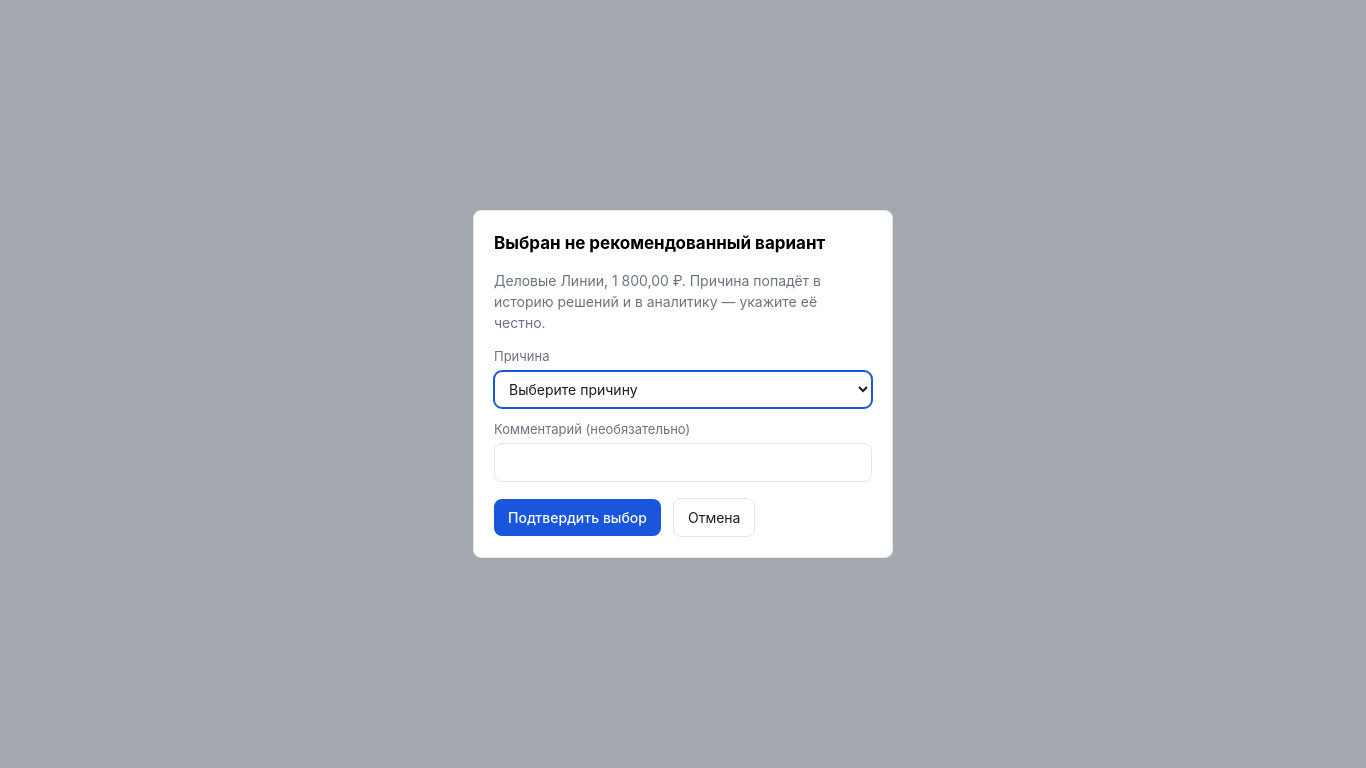
Test case: OverrideDialog › не пропускает подтверждение без причины
This screenshot has width=1366, height=768.
Click the button "Подтвердить выбор": (578, 518) left=494, top=499, right=661, bottom=536
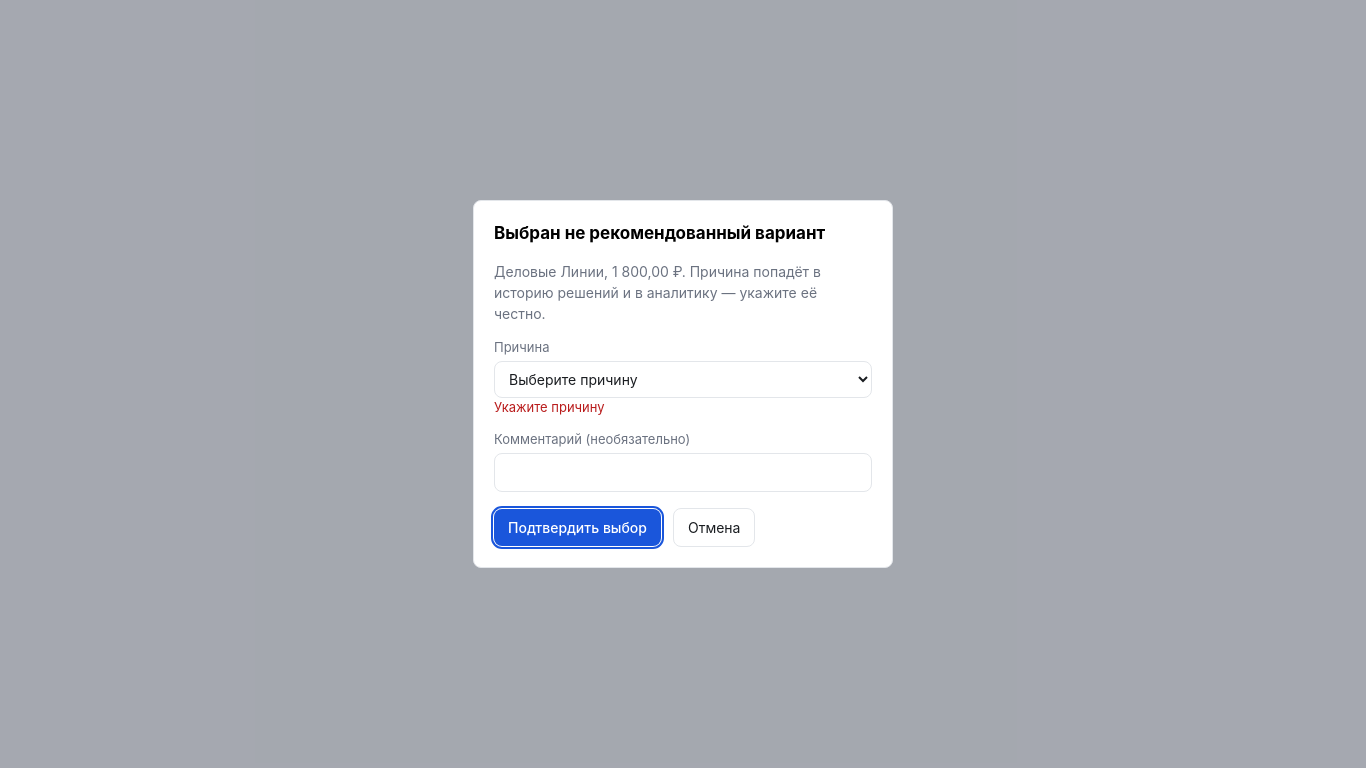
Expected: the text "Укажите причину" is shown, left=494, top=399, right=605, bottom=415
